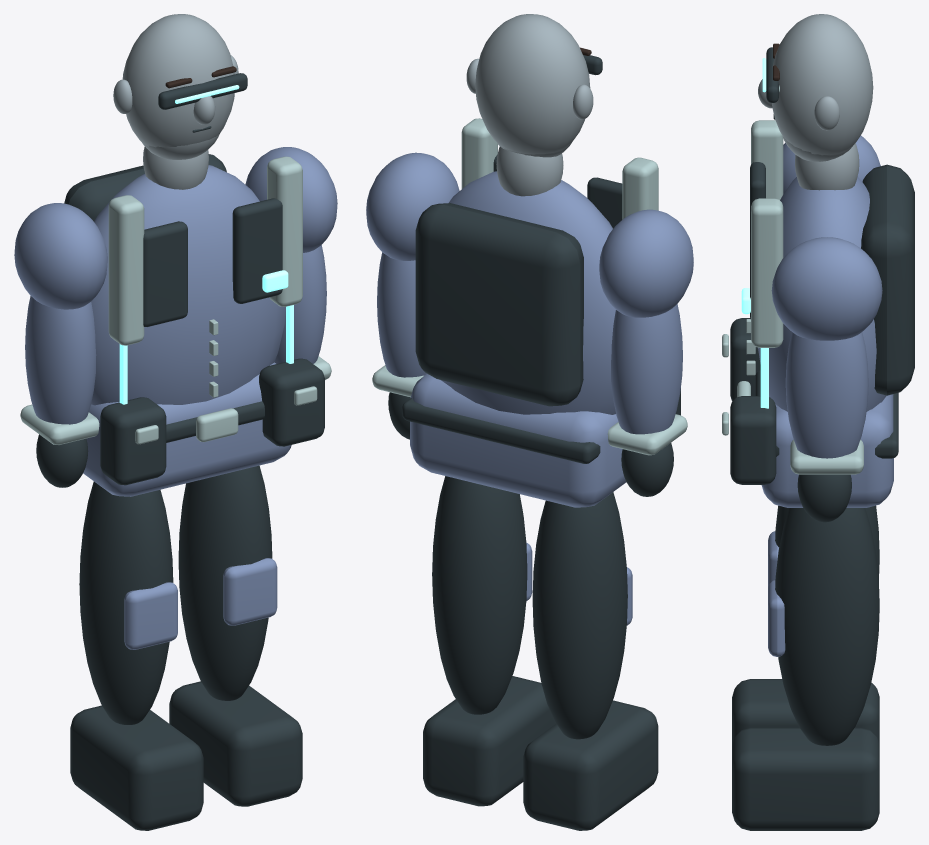
File: npc-echo.glb
3 views of the same model, side by side, from view 1: azimuth 30°, elevation 25°; view 2: azimuth 150°, elevation 25°; view 3: azimuth 270°, elevation 25° (orthographic).
Visible parts, largest first — view 1: Coat torso, Trouser, Trouser.001, Boot, Boot.001, Face, Coat hem, Shoulder, Sleeve, Shoulder harness, Hip pouch, Hip pouch.001 (+15 smaller); view 2: Back armor, Trouser, Trouser.001, Coat hem, Face, Boot, Coat torso, Boot.001, Shoulder, Sleeve, Shoulder.001, Sleeve.001 (+9 smaller); view 3: Trouser.001, Boot.001, Face, Back armor, Shoulder.001, Sleeve.001, Coat torso, Coat hem, Shoulder harness.001, Hip pouch.001, Boot, Glove.001 (+14 smaller).
Boxes of the visible parts, <box> form: Coat torso: <box>91,165,285,405</box>; Trouser: <box>79,481,173,724</box>; Trouser.001: <box>178,465,272,700</box>; Boot: <box>70,705,203,830</box>; Boot.001: <box>169,681,302,806</box>; Face: <box>122,14,234,147</box>; Coat hem: <box>83,362,291,496</box>; Shoulder: <box>14,203,107,309</box>; Sleeve: <box>25,296,96,424</box>; Shoulder harness: <box>108,195,144,345</box>; Hip pouch: <box>100,397,166,485</box>; Hip pouch.001: <box>259,358,324,446</box>; Back armor: <box>415,203,583,406</box>; Trouser: <box>532,492,627,739</box>; Trouser.001: <box>432,476,527,714</box>; Coat hem: <box>410,373,626,507</box>; Face: <box>475,14,590,154</box>; Boot: <box>523,700,658,830</box>; Coat torso: <box>441,171,615,414</box>; Boot.001: <box>423,676,555,806</box>; Shoulder: <box>599,209,693,317</box>; Sleeve: <box>611,304,682,434</box>; Shoulder.001: <box>366,152,459,260</box>; Sleeve.001: <box>377,252,426,377</box>; Trouser.001: <box>775,508,879,745</box>; Boot.001: <box>732,727,879,830</box>; Face: <box>772,14,873,155</box>; Back armor: <box>861,164,914,395</box>; Shoulder.001: <box>771,237,882,340</box>; Sleeve.001: <box>785,332,868,458</box>; Coat torso: <box>758,177,886,411</box>; Coat hem: <box>761,394,893,507</box>; Shoulder harness.001: <box>751,198,783,347</box>; Hip pouch.001: <box>730,396,776,484</box>; Boot: <box>732,679,879,745</box>; Glove.001: <box>797,474,851,522</box>.
Size of the model in its own units: 0.772 by 1.86 by 0.4175.
